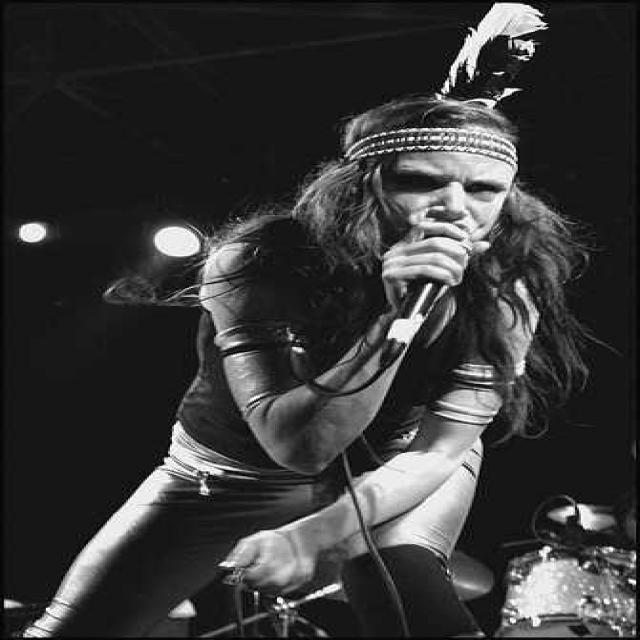microphone: (377, 219, 480, 393)
